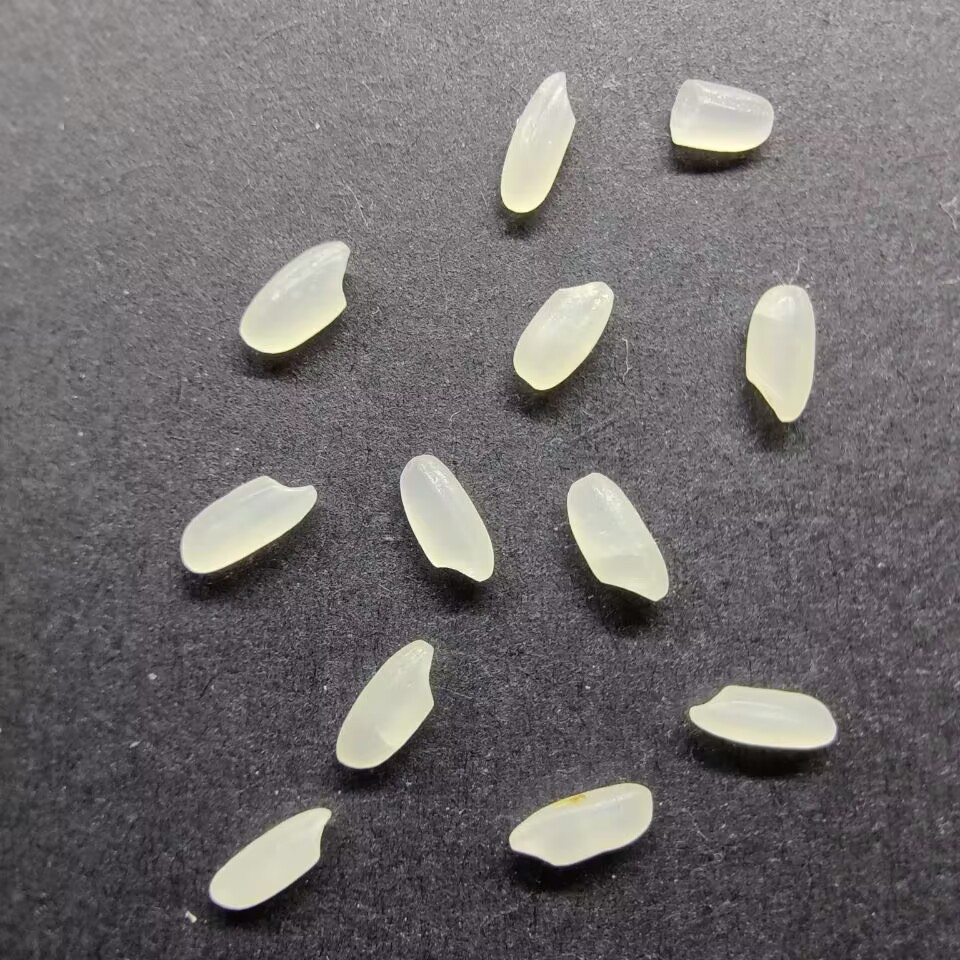broken: (667, 77, 776, 154)
rice: (181, 473, 320, 576), (566, 470, 671, 604), (205, 804, 334, 912), (334, 637, 437, 769), (237, 240, 351, 354), (399, 454, 497, 584), (507, 782, 655, 867), (512, 279, 614, 392), (497, 70, 577, 214), (743, 284, 816, 424), (685, 684, 838, 749)
